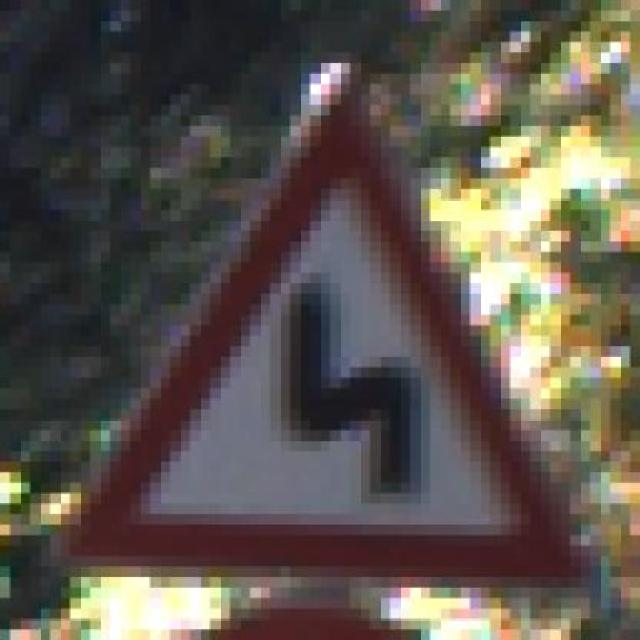Left Zig Zag Traffic: (60, 52, 600, 588)
